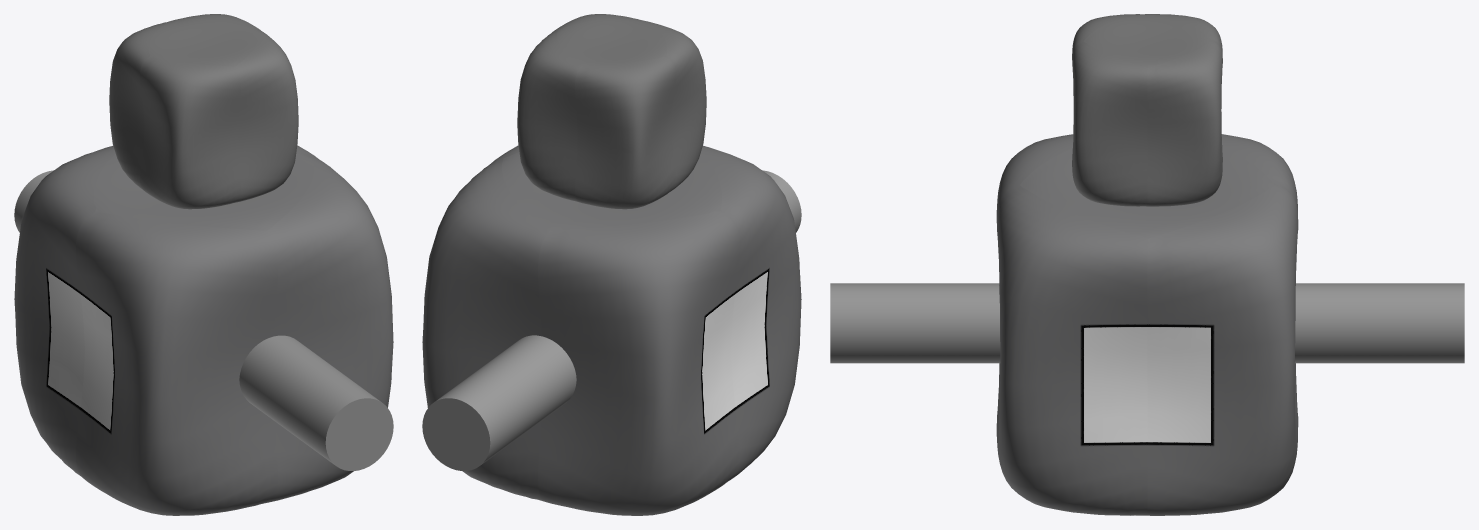
Rendered from Cubic + Null + 2 + Flat + Straight + Square_0.png + Cubic.fbx.
3 views of the same model, side by side, from view 1: azimuth 30°, elevation 25°; view 2: azimuth 150°, elevation 25°; view 3: azimuth 270°, elevation 25° (orthographic).
Parts seen in each view (by area): view 1: Box001, Box002, Cone001, Cone002; view 2: Box001, Box002, Cone002, Cone001; view 3: Box001, Box002, Cone001, Cone002.
Boxes of the visible parts, bbox=[...] form: Box001: bbox=[14, 145, 393, 515]; Box002: bbox=[109, 14, 298, 209]; Cone001: bbox=[239, 335, 393, 470]; Cone002: bbox=[14, 170, 53, 232]; Box001: bbox=[422, 145, 801, 515]; Box002: bbox=[517, 14, 706, 209]; Cone002: bbox=[422, 335, 576, 470]; Cone001: bbox=[762, 170, 801, 232]; Box001: bbox=[996, 134, 1298, 515]; Box002: bbox=[1072, 14, 1222, 206]; Cone001: bbox=[830, 283, 1000, 363]; Cone002: bbox=[1295, 283, 1464, 363].
Size of the model in its own units: 30.2 by 47.15 by 63.47.
Materials: 3 (2 with a texture image).
